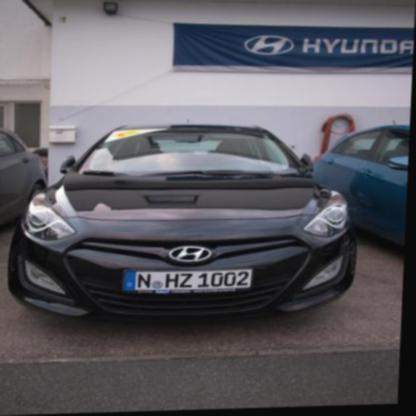License_Plate: (122, 266, 254, 295)
